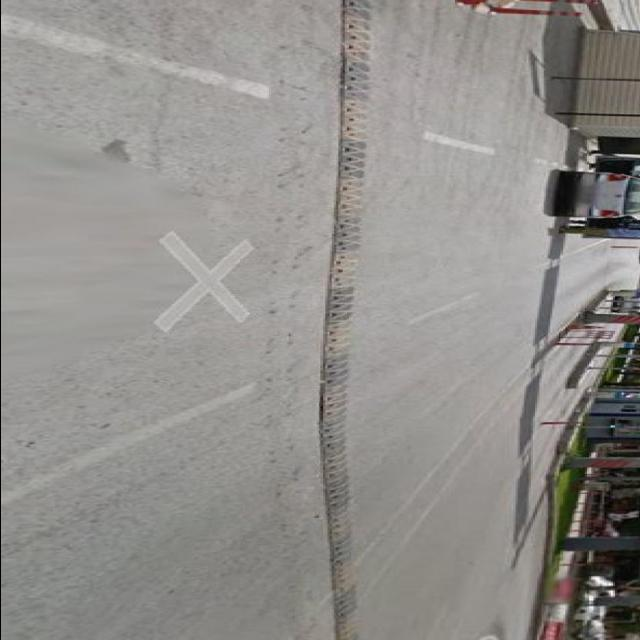Speed_Breaker: (309, 0, 380, 640), (320, 0, 370, 639)
